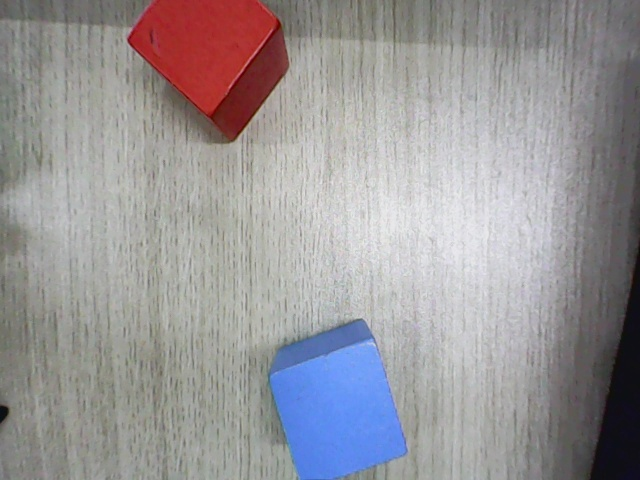upside of big cube: (266, 338, 409, 479), (126, 0, 279, 117)
